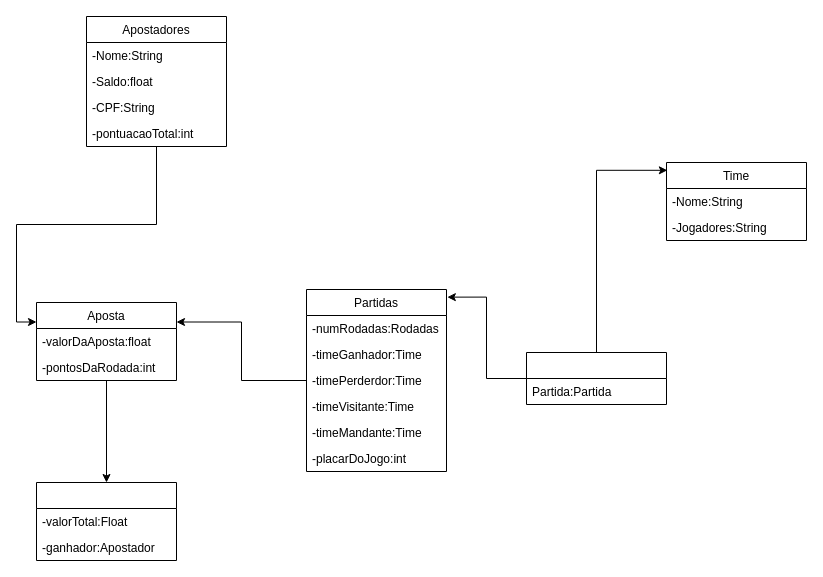
Image size: 823x577. Some labels were removed from this diagram. The shapes that lost their labels are listed below. From the top down, each one's box as (x1, y1, x2, y2) in pixels, then its label:
(526, 352, 666, 404): Rodadas
(36, 482, 176, 560): Jogo
